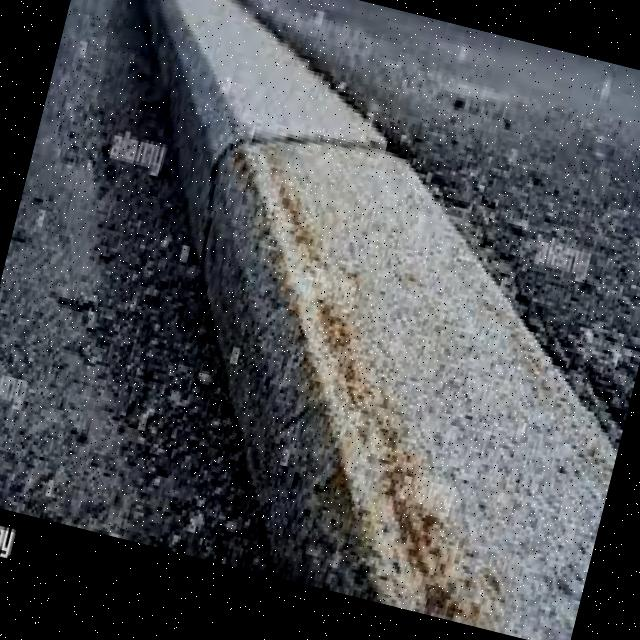curb: (201, 148, 618, 640), (140, 1, 389, 280)
